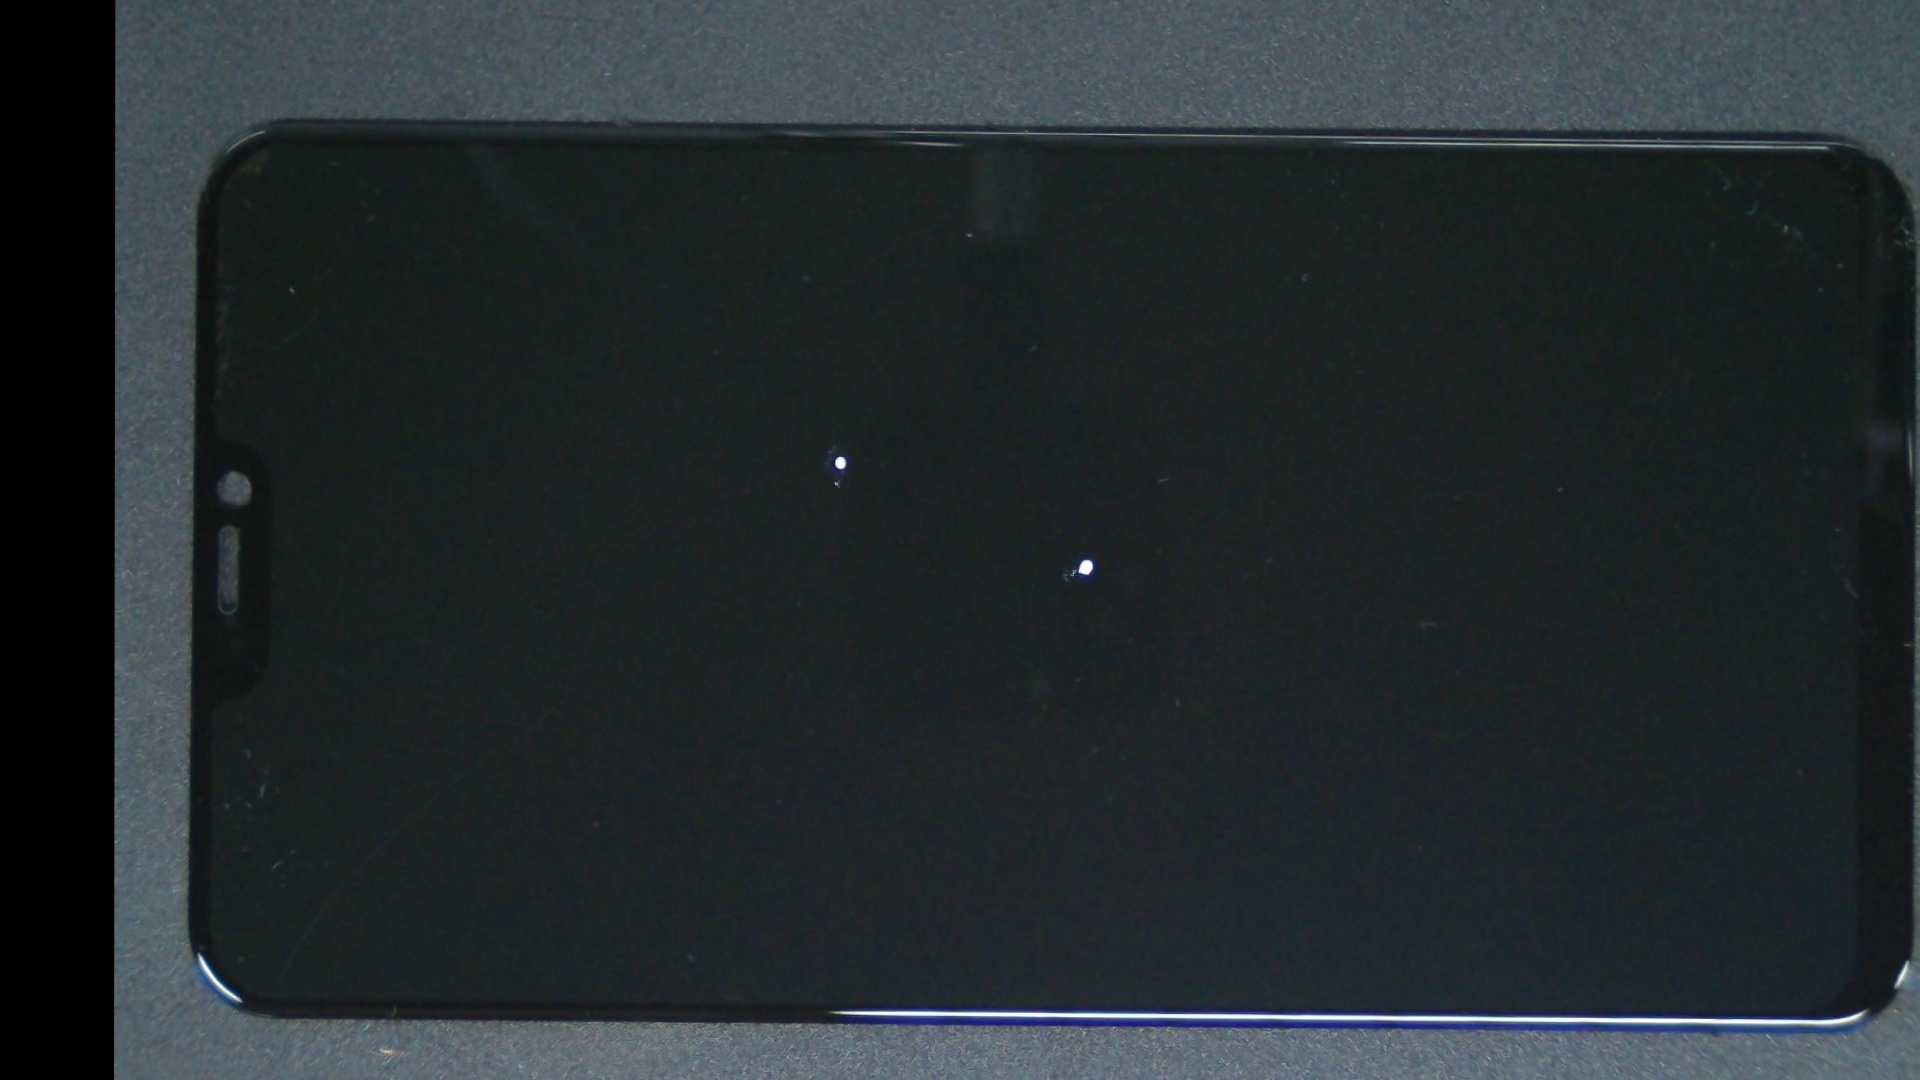oil: (601, 261, 1576, 853), (480, 210, 1211, 698)
